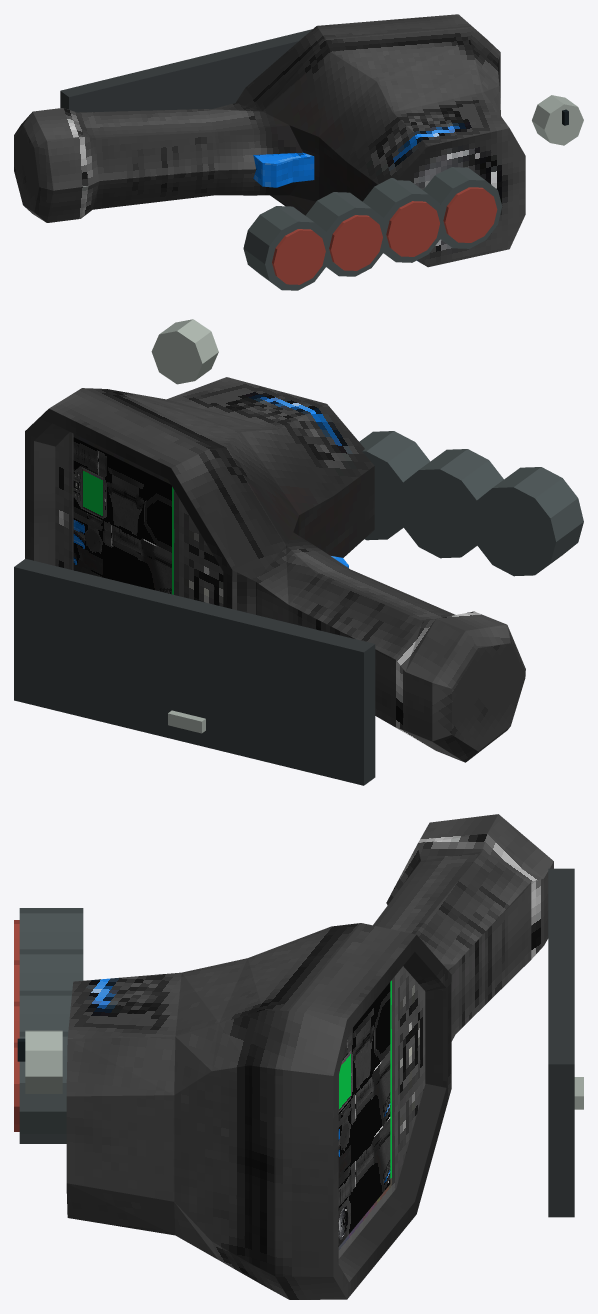
File: blender_laser_grid_3.glb
3 renders of one model, top to bottom at view 1: azimuth 30°, elevation 25°; view 2: azimuth 150°, elevation 25°; view 3: azimuth 270°, elevation 25°, orthographic. The views are drawn at different scales.
Parts seen in each view (by area): view 1: blender_laser_grid_3; view 2: blender_laser_grid_3; view 3: blender_laser_grid_3.
Part boxes in pixels (x1,y1,x2,y2): blender_laser_grid_3: [14, 14, 583, 290]; blender_laser_grid_3: [14, 319, 583, 785]; blender_laser_grid_3: [14, 814, 583, 1299].
Size of the model in its own units: 0.19 by 0.085 by 0.152.
Materials: 1 (1 with a texture image).
